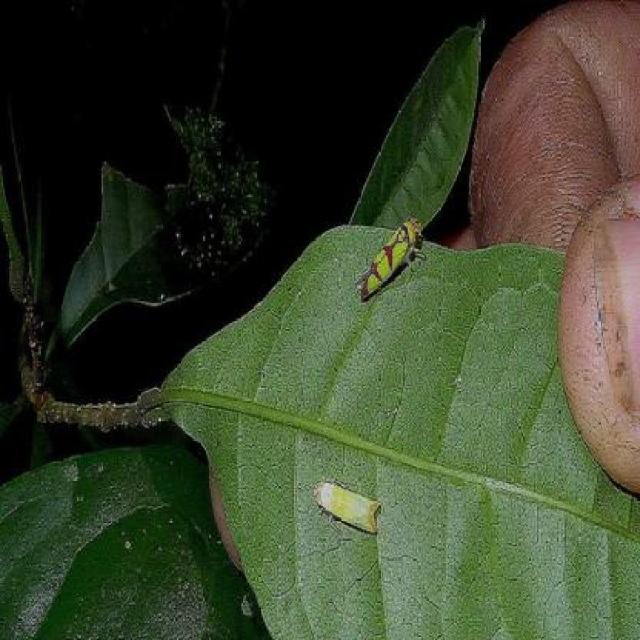green-leafhopper: (359, 206, 427, 308), (311, 462, 386, 549)
